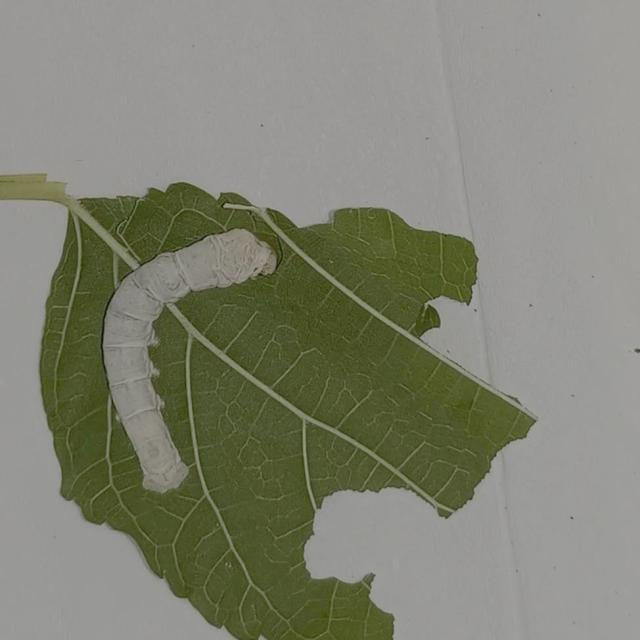Healthy: (81, 214, 299, 512)
